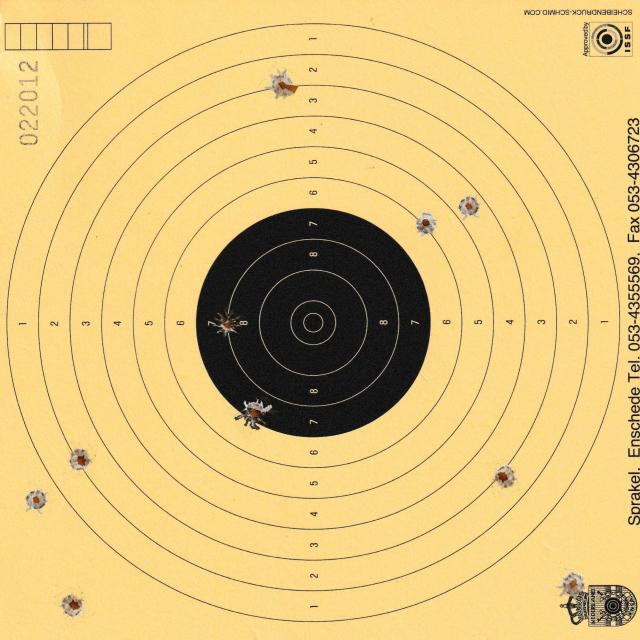3: (66, 448, 92, 472)
4: (264, 68, 302, 100), (492, 464, 520, 491)
5: (457, 193, 482, 221)
7: (412, 211, 440, 238)
8: (234, 396, 276, 432)
9: (210, 306, 244, 338)
Black Contour: (196, 208, 431, 438)
Target: (5, 21, 622, 625)
hole: (554, 568, 588, 600), (58, 592, 85, 620), (22, 488, 49, 514)
